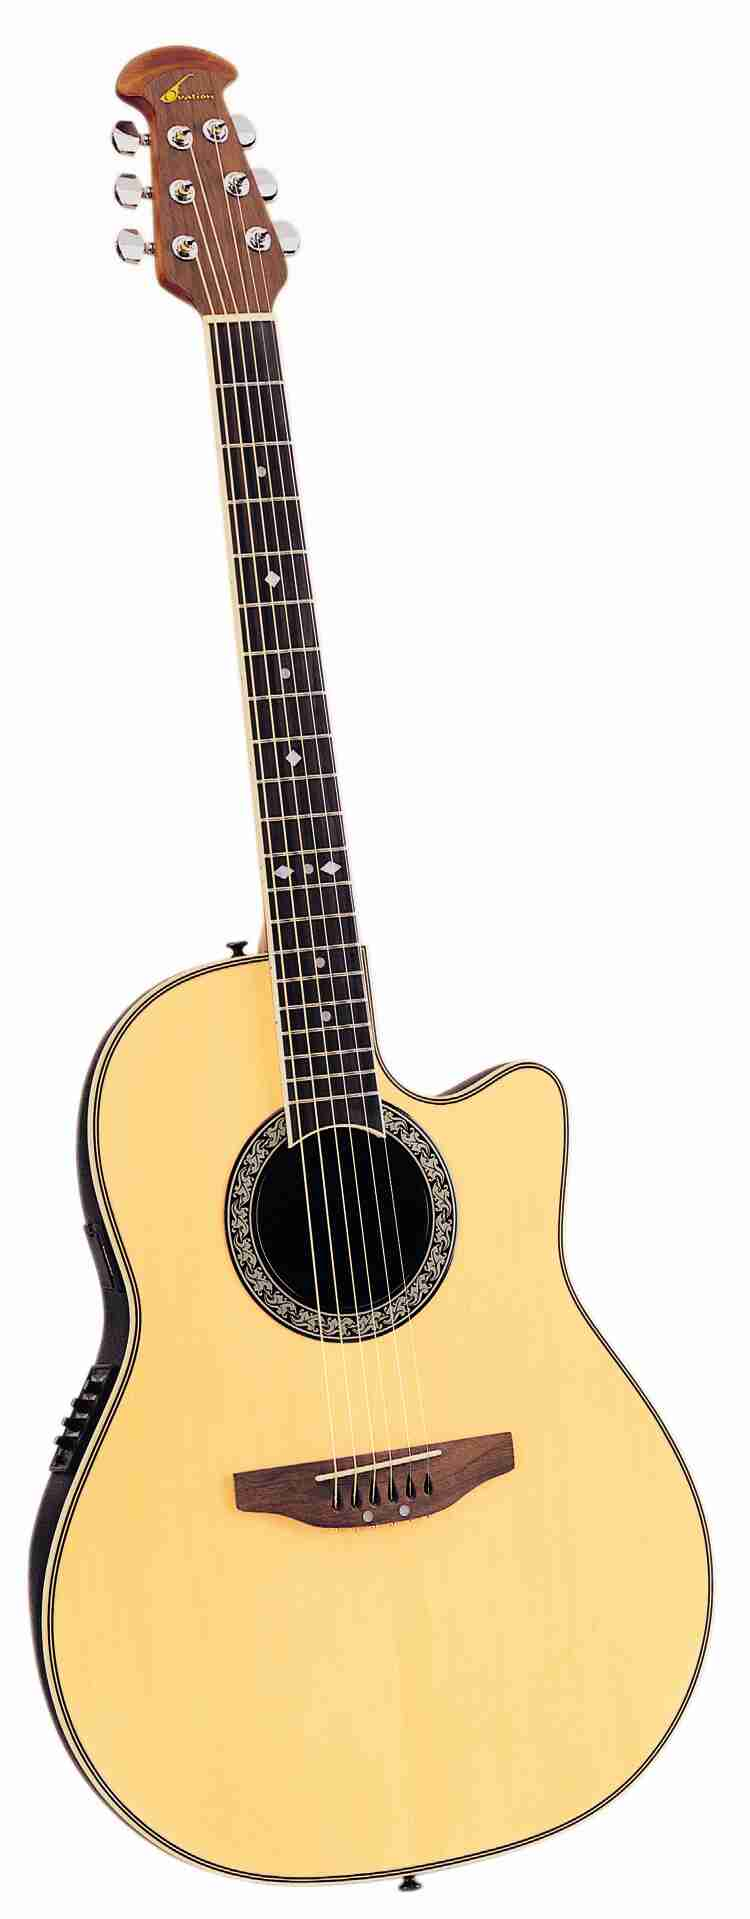guitar: (39, 48, 717, 1887)
